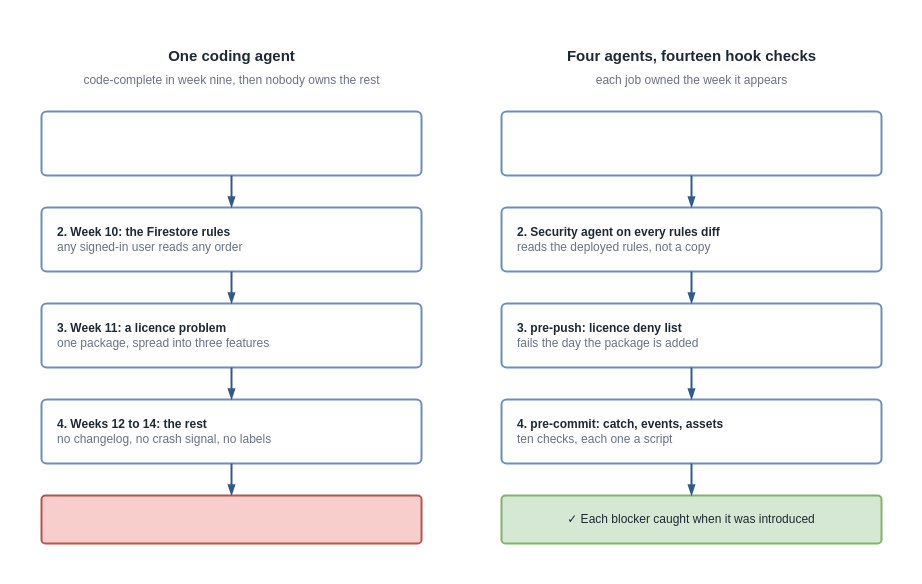
This 922x584 diagram has some shape labels left out. The shapes that lost their labels are listed below. From the top down, each one's centre as x and y in pixels, then its label:
the point at 231,143: 1. Weeks 1 to 9: the code fast, green, and reviewed
the point at 691,143: 1. Architecture agent, week 1 layers decided before screen one
the point at 231,519: ✗ Released five weeks after code-complete
